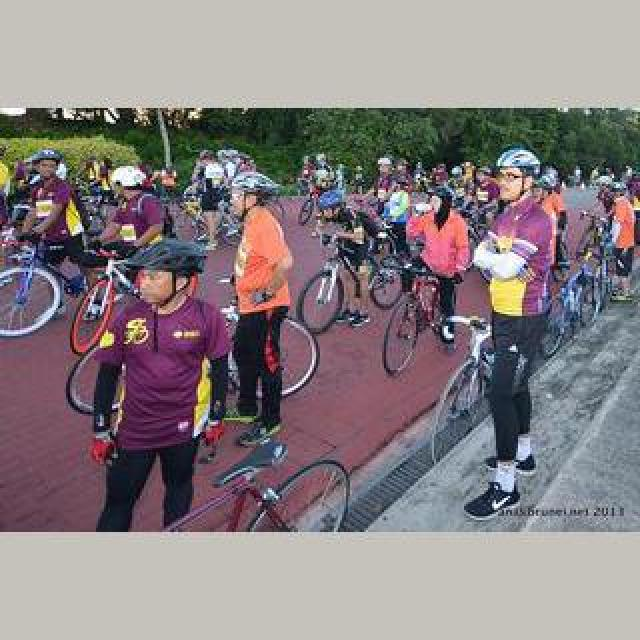MC-Bike: (94, 246, 234, 526), (468, 148, 562, 506), (230, 176, 294, 424), (304, 178, 386, 324), (406, 188, 474, 348), (22, 148, 90, 296), (98, 166, 166, 252), (604, 188, 638, 298)
Person: (170, 444, 348, 530), (68, 240, 164, 358), (298, 232, 406, 332), (540, 230, 616, 360), (430, 314, 494, 466), (0, 234, 86, 338), (384, 264, 462, 378), (174, 194, 244, 248)
